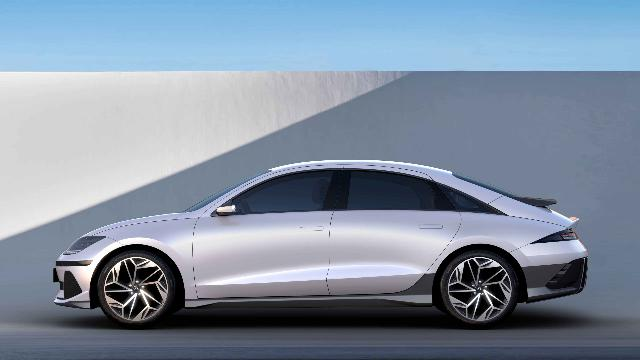hyundai: (53, 159, 589, 329)
